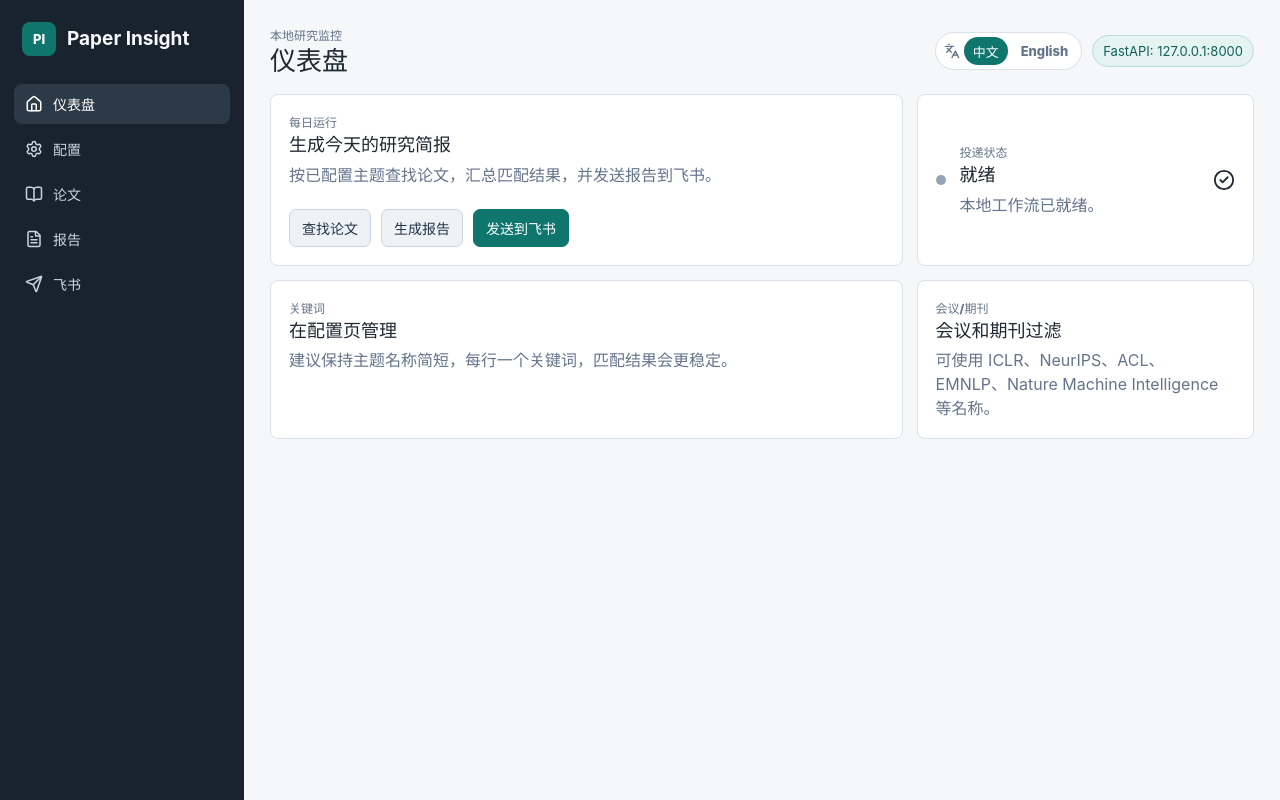
Test: defaults to Chinese and switches to English
The image size is (1280, 800).
Check: the heading "Paper Insight" is shown, box [67, 28, 189, 50]
Check: the button "仪表盘" is shown, box [14, 84, 230, 124]
Click the button "English": (1044, 51) [1012, 37, 1077, 65]
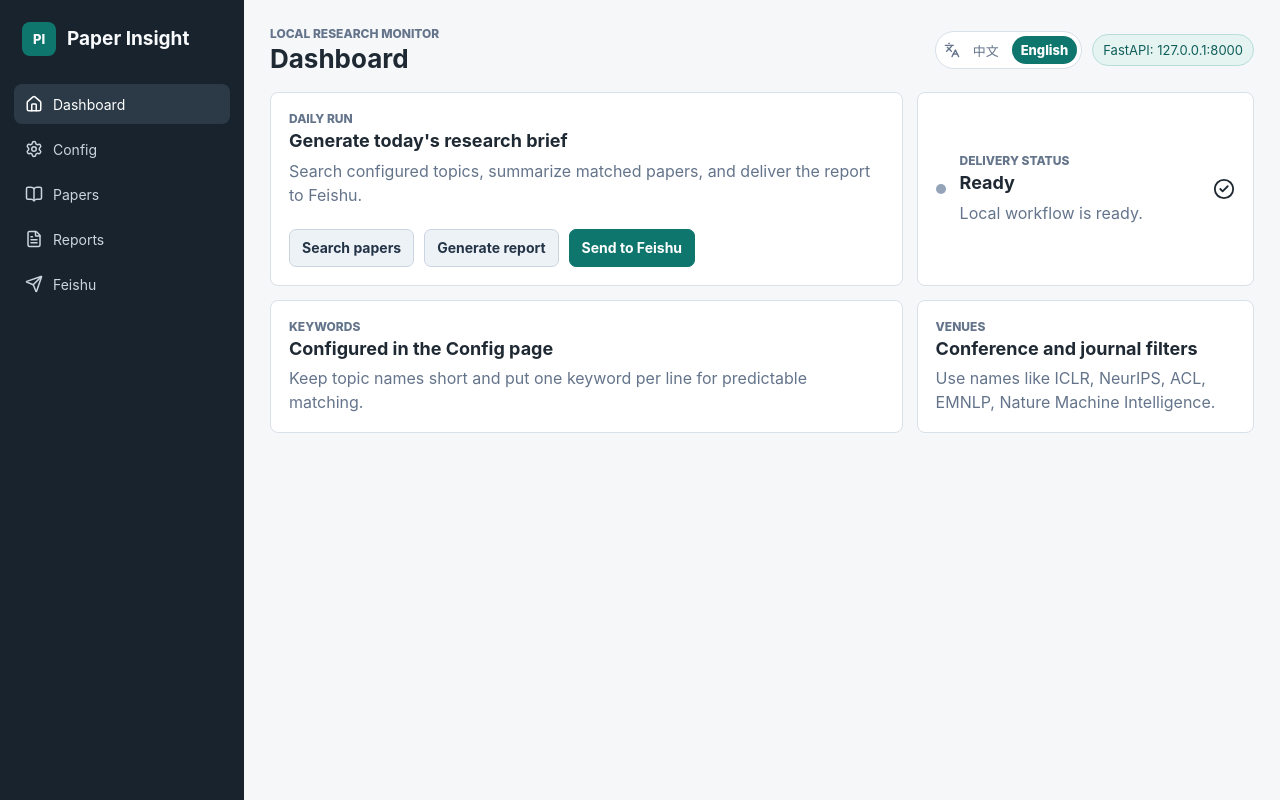
Check: the button "Dashboard" is shown, box [14, 84, 230, 124]
Check: the button "Search papers" is shown, box [289, 229, 414, 267]
Check: the button "Generate report" is shown, box [424, 229, 559, 267]
